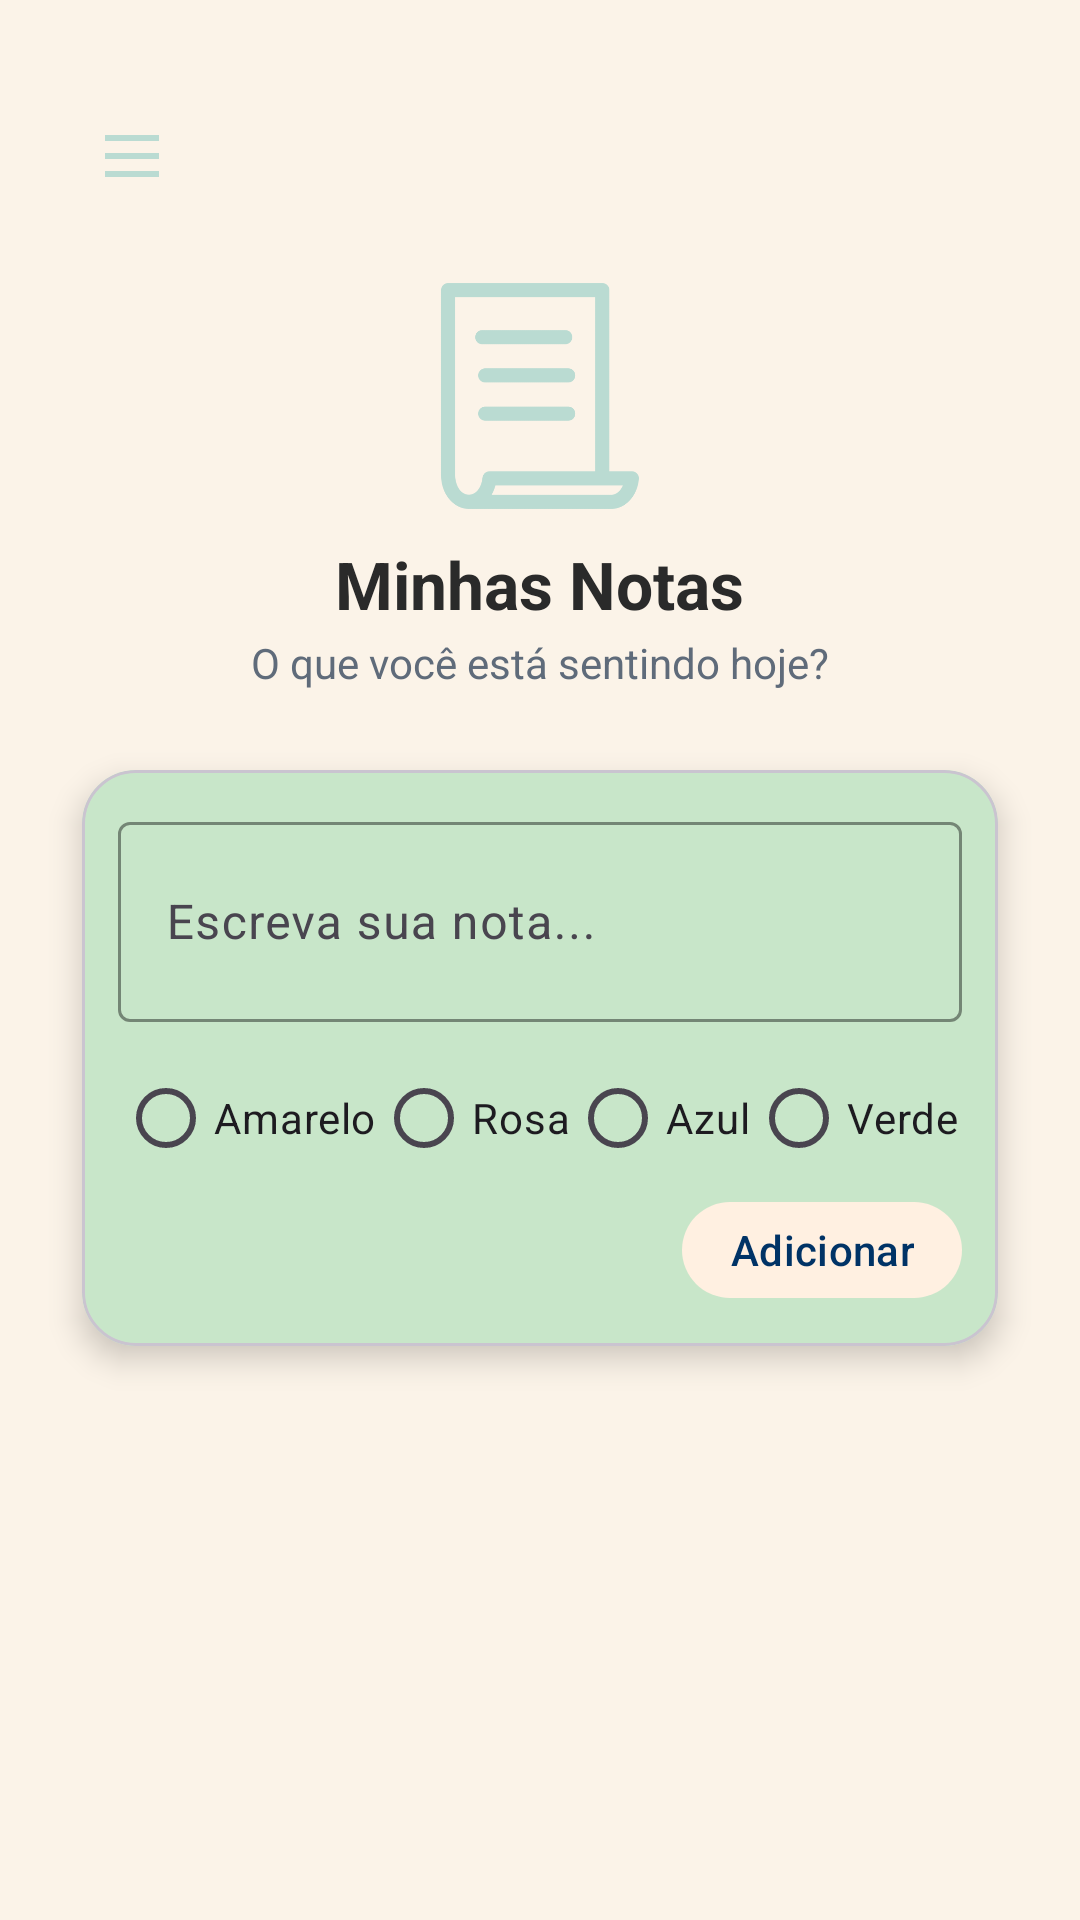

Screen size 1080w x 1920h. Icon name, then its center in pixels as (x,y):
Abrir menu: (132,156)
Ícone das notas: (540,396)
